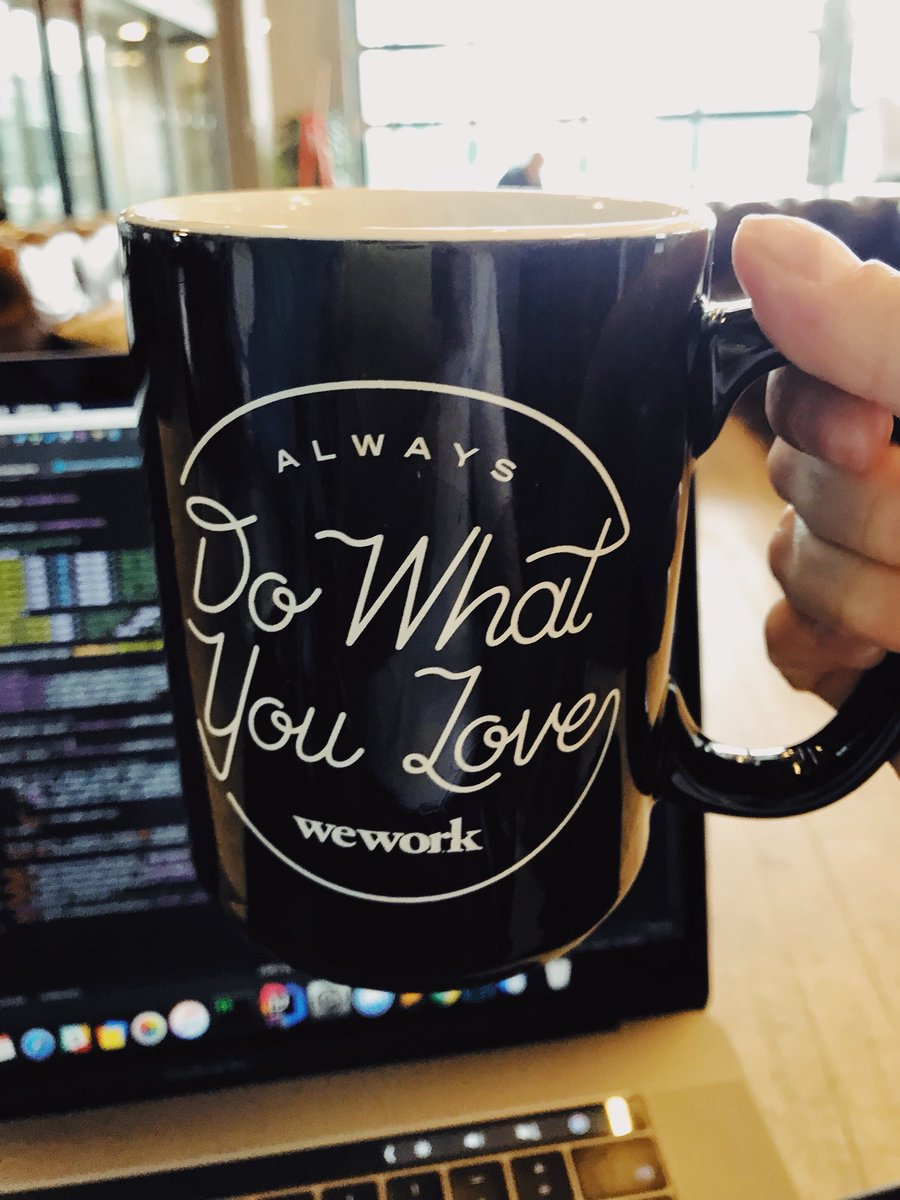wework: (290, 808, 490, 860)
